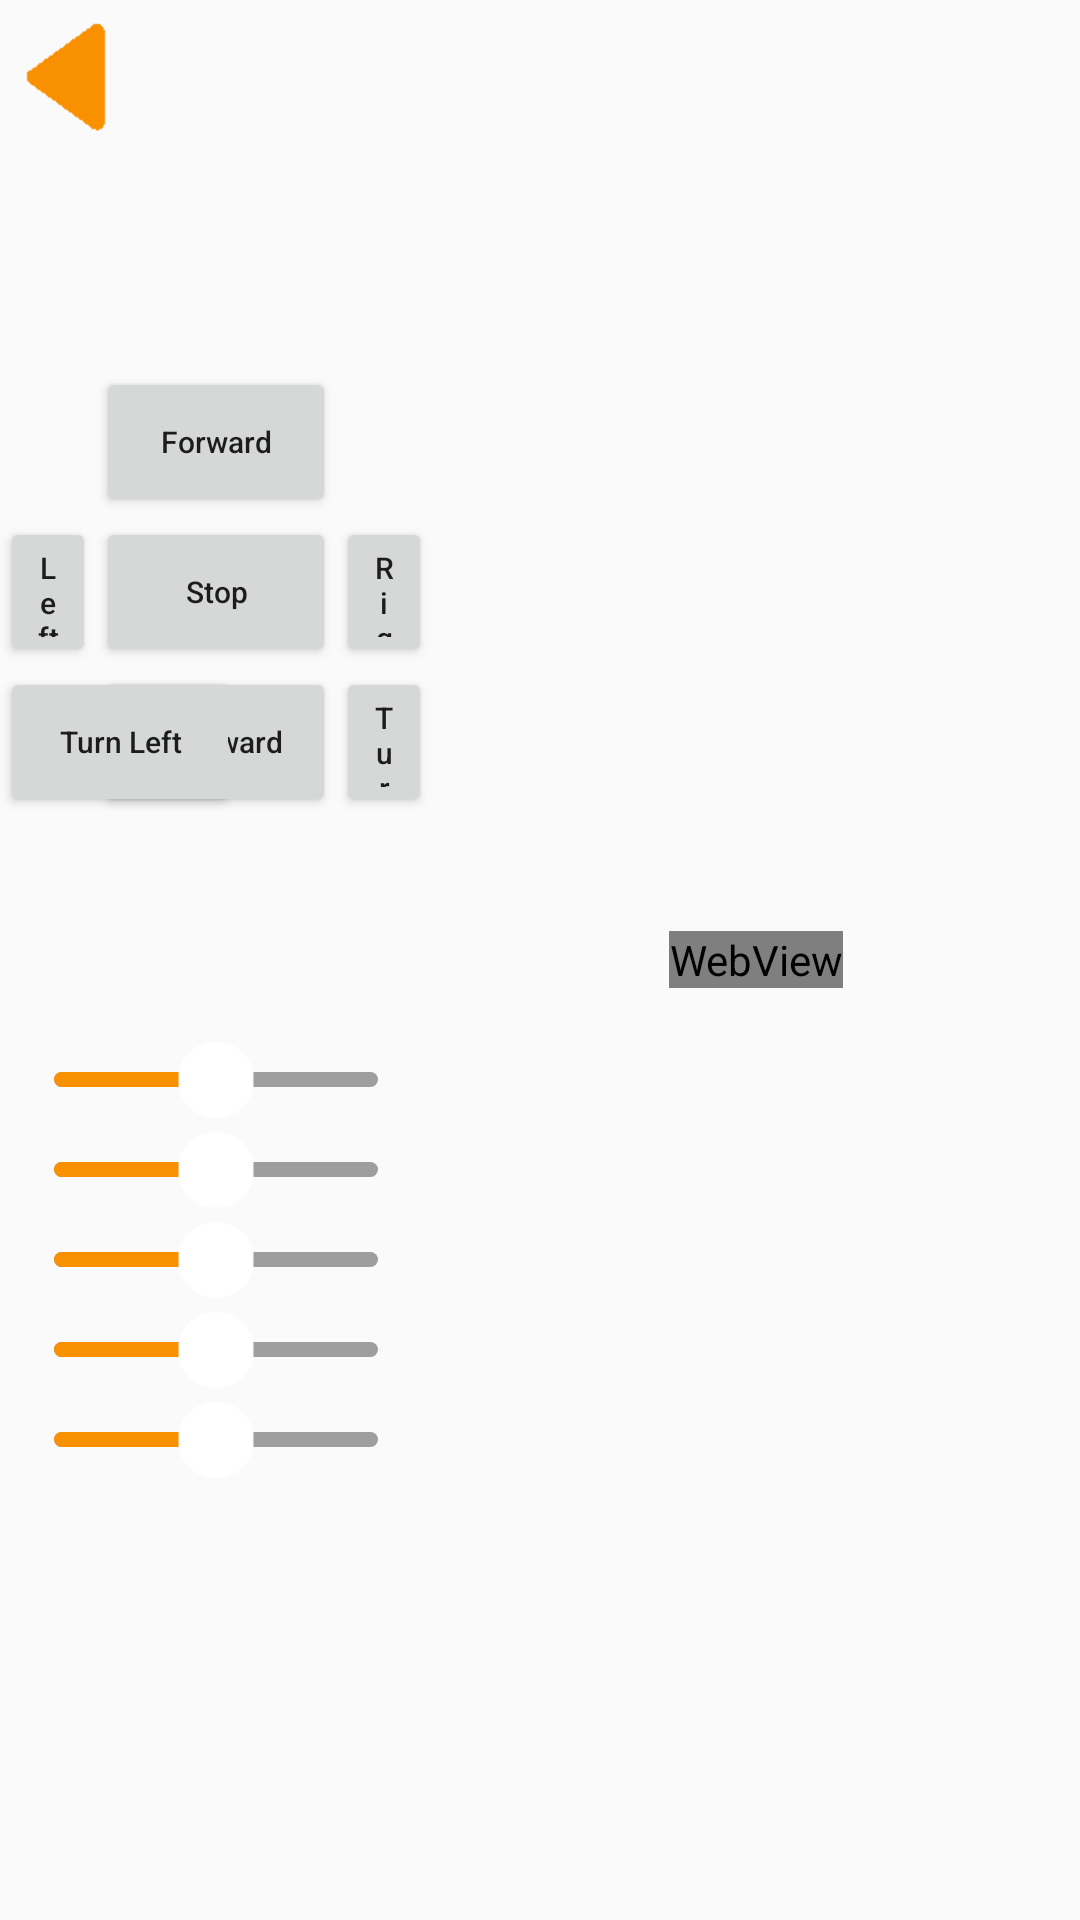

Named icons in this screenshot (1080px×1920px) and their centers, [x,y]:
back arrow: [66,77]
